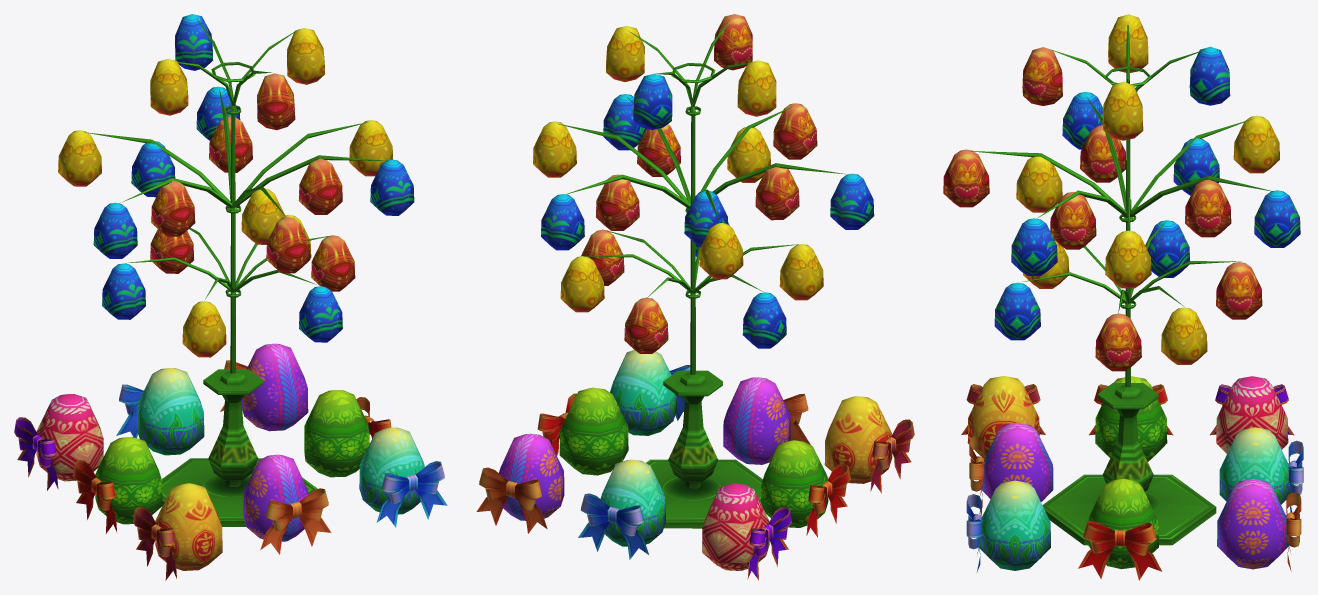
File: Egg_Pillar_Group.FBX
3 views of the same model, side by side, from view 1: azimuth 30°, elevation 25°; view 2: azimuth 150°, elevation 25°; view 3: azimuth 270°, elevation 25° (orthographic). The views are drawn at different scales.
Visible parts, largest first — view 1: Egg_Pillar, Egg_037, Egg_030, Egg_034, Egg_042, Egg_035, Egg_038, Egg_044, Egg_041; view 2: Egg_Pillar, Egg_038, Egg_041, Egg_042, Egg_044, Egg_037, Egg_035, Egg_034, Egg_030; view 3: Egg_Pillar, Egg_030, Egg_041, Egg_044, Egg_034, Egg_042, Egg_038, Egg_037, Egg_035.
Part boxes in pixels (bbox=[...]): Egg_Pillar: bbox=[58, 14, 414, 526]; Egg_037: bbox=[133, 483, 222, 580]; Egg_030: bbox=[359, 427, 447, 527]; Egg_034: bbox=[243, 454, 331, 554]; Egg_042: bbox=[116, 367, 204, 455]; Egg_035: bbox=[73, 437, 162, 533]; Egg_038: bbox=[14, 393, 103, 490]; Egg_044: bbox=[304, 390, 391, 477]; Egg_041: bbox=[220, 343, 308, 431]; Egg_Pillar: bbox=[533, 14, 874, 528]; Egg_038: bbox=[702, 483, 791, 580]; Egg_041: bbox=[476, 433, 564, 533]; Egg_042: bbox=[578, 459, 665, 559]; Egg_044: bbox=[537, 387, 628, 475]; Egg_037: bbox=[824, 396, 914, 493]; Egg_035: bbox=[761, 440, 850, 537]; Egg_034: bbox=[723, 377, 810, 464]; Egg_030: bbox=[610, 350, 690, 435]; Egg_Pillar: bbox=[943, 14, 1300, 545]; Egg_030: bbox=[966, 480, 1050, 572]; Egg_041: bbox=[1217, 479, 1301, 571]; Egg_044: bbox=[1078, 478, 1162, 580]; Egg_034: bbox=[969, 423, 1053, 514]; Egg_042: bbox=[1219, 427, 1303, 512]; Egg_038: bbox=[1210, 376, 1294, 453]; Egg_037: bbox=[961, 376, 1045, 458]; Egg_035: bbox=[1089, 376, 1173, 461].
Bounding box in the file's own units: 1.73 × 2.43 × 1.7.
